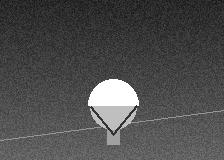helmet: (88, 79, 138, 134)
